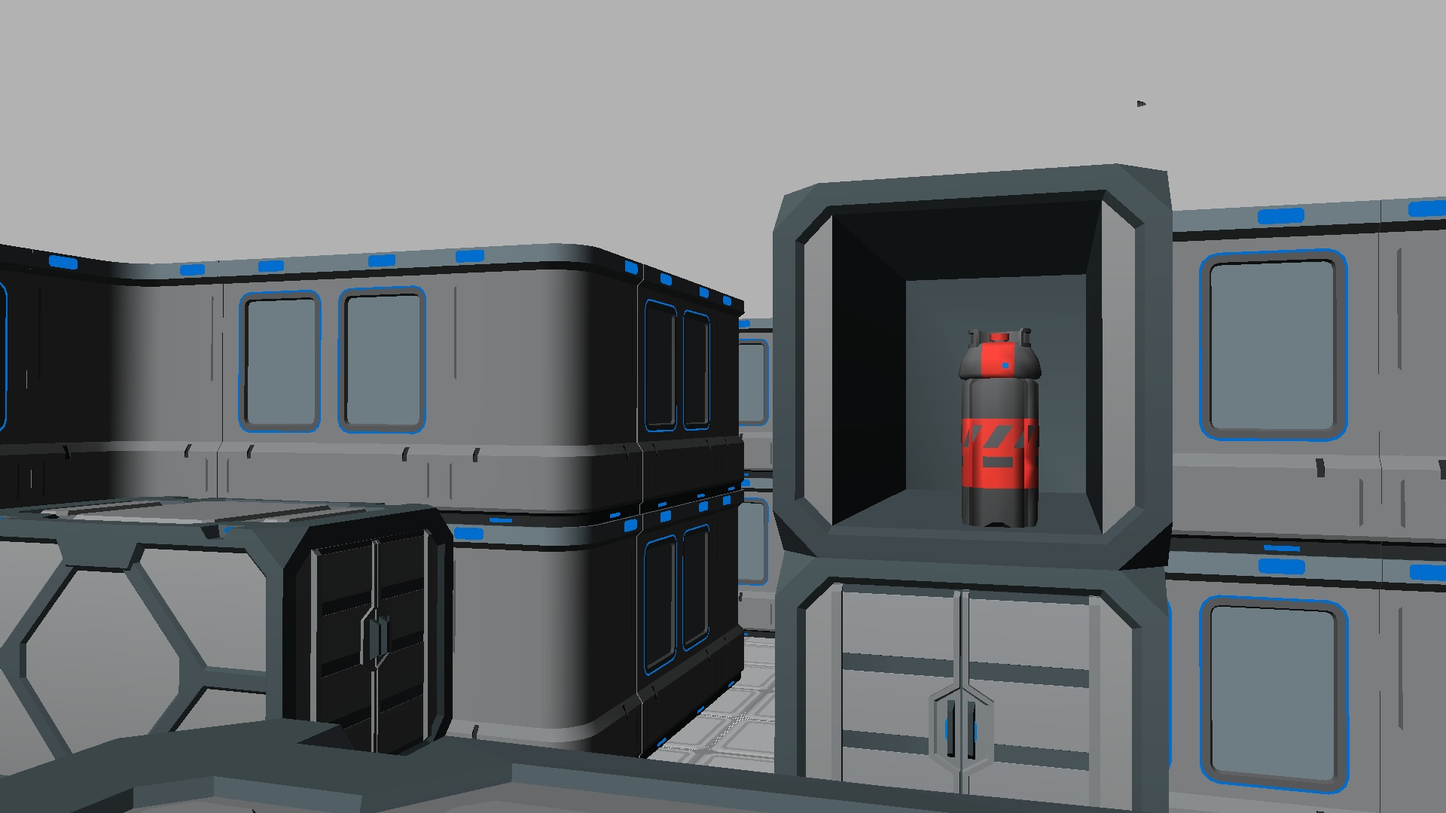red barrel: (958, 328, 1042, 528)
